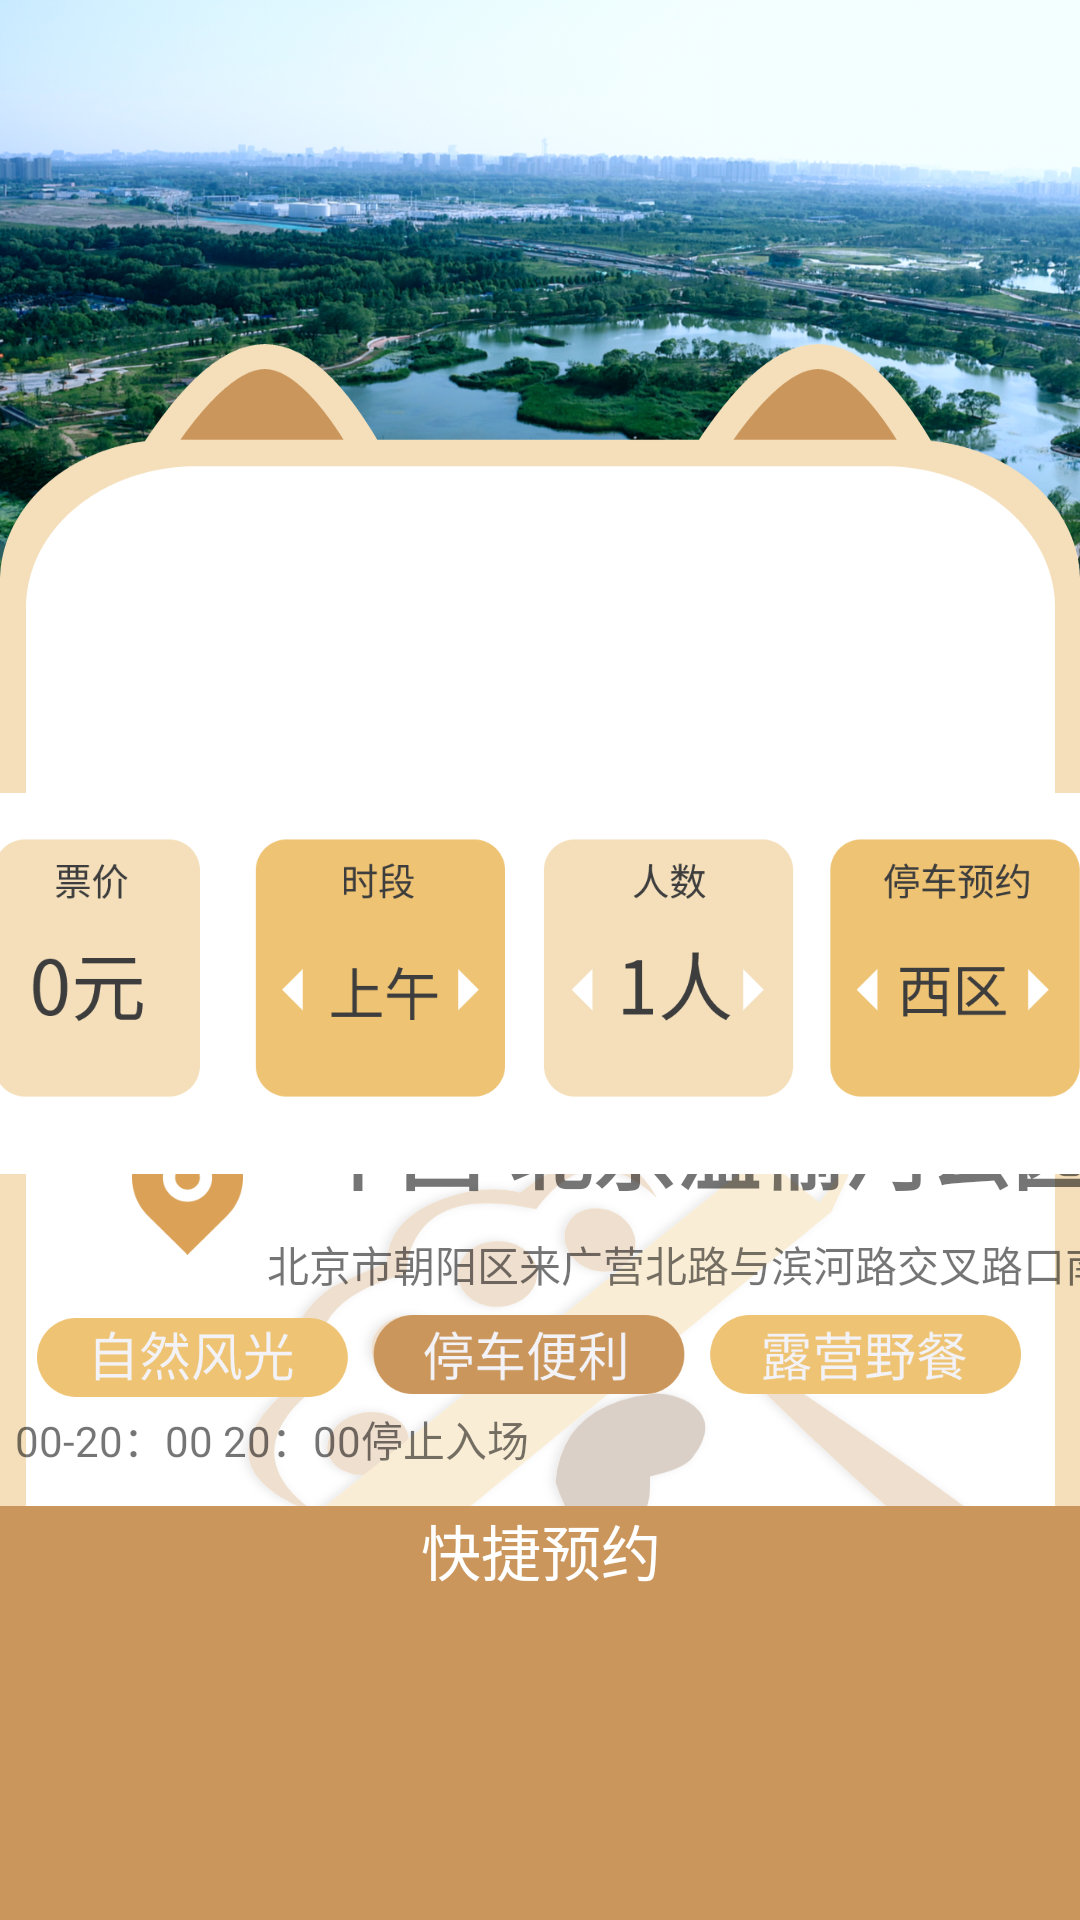

Where icons sit on this 1080 × 1920 app screen, as (x1, y1, x2, y2):
detail map: (132, 1174, 243, 1255)
